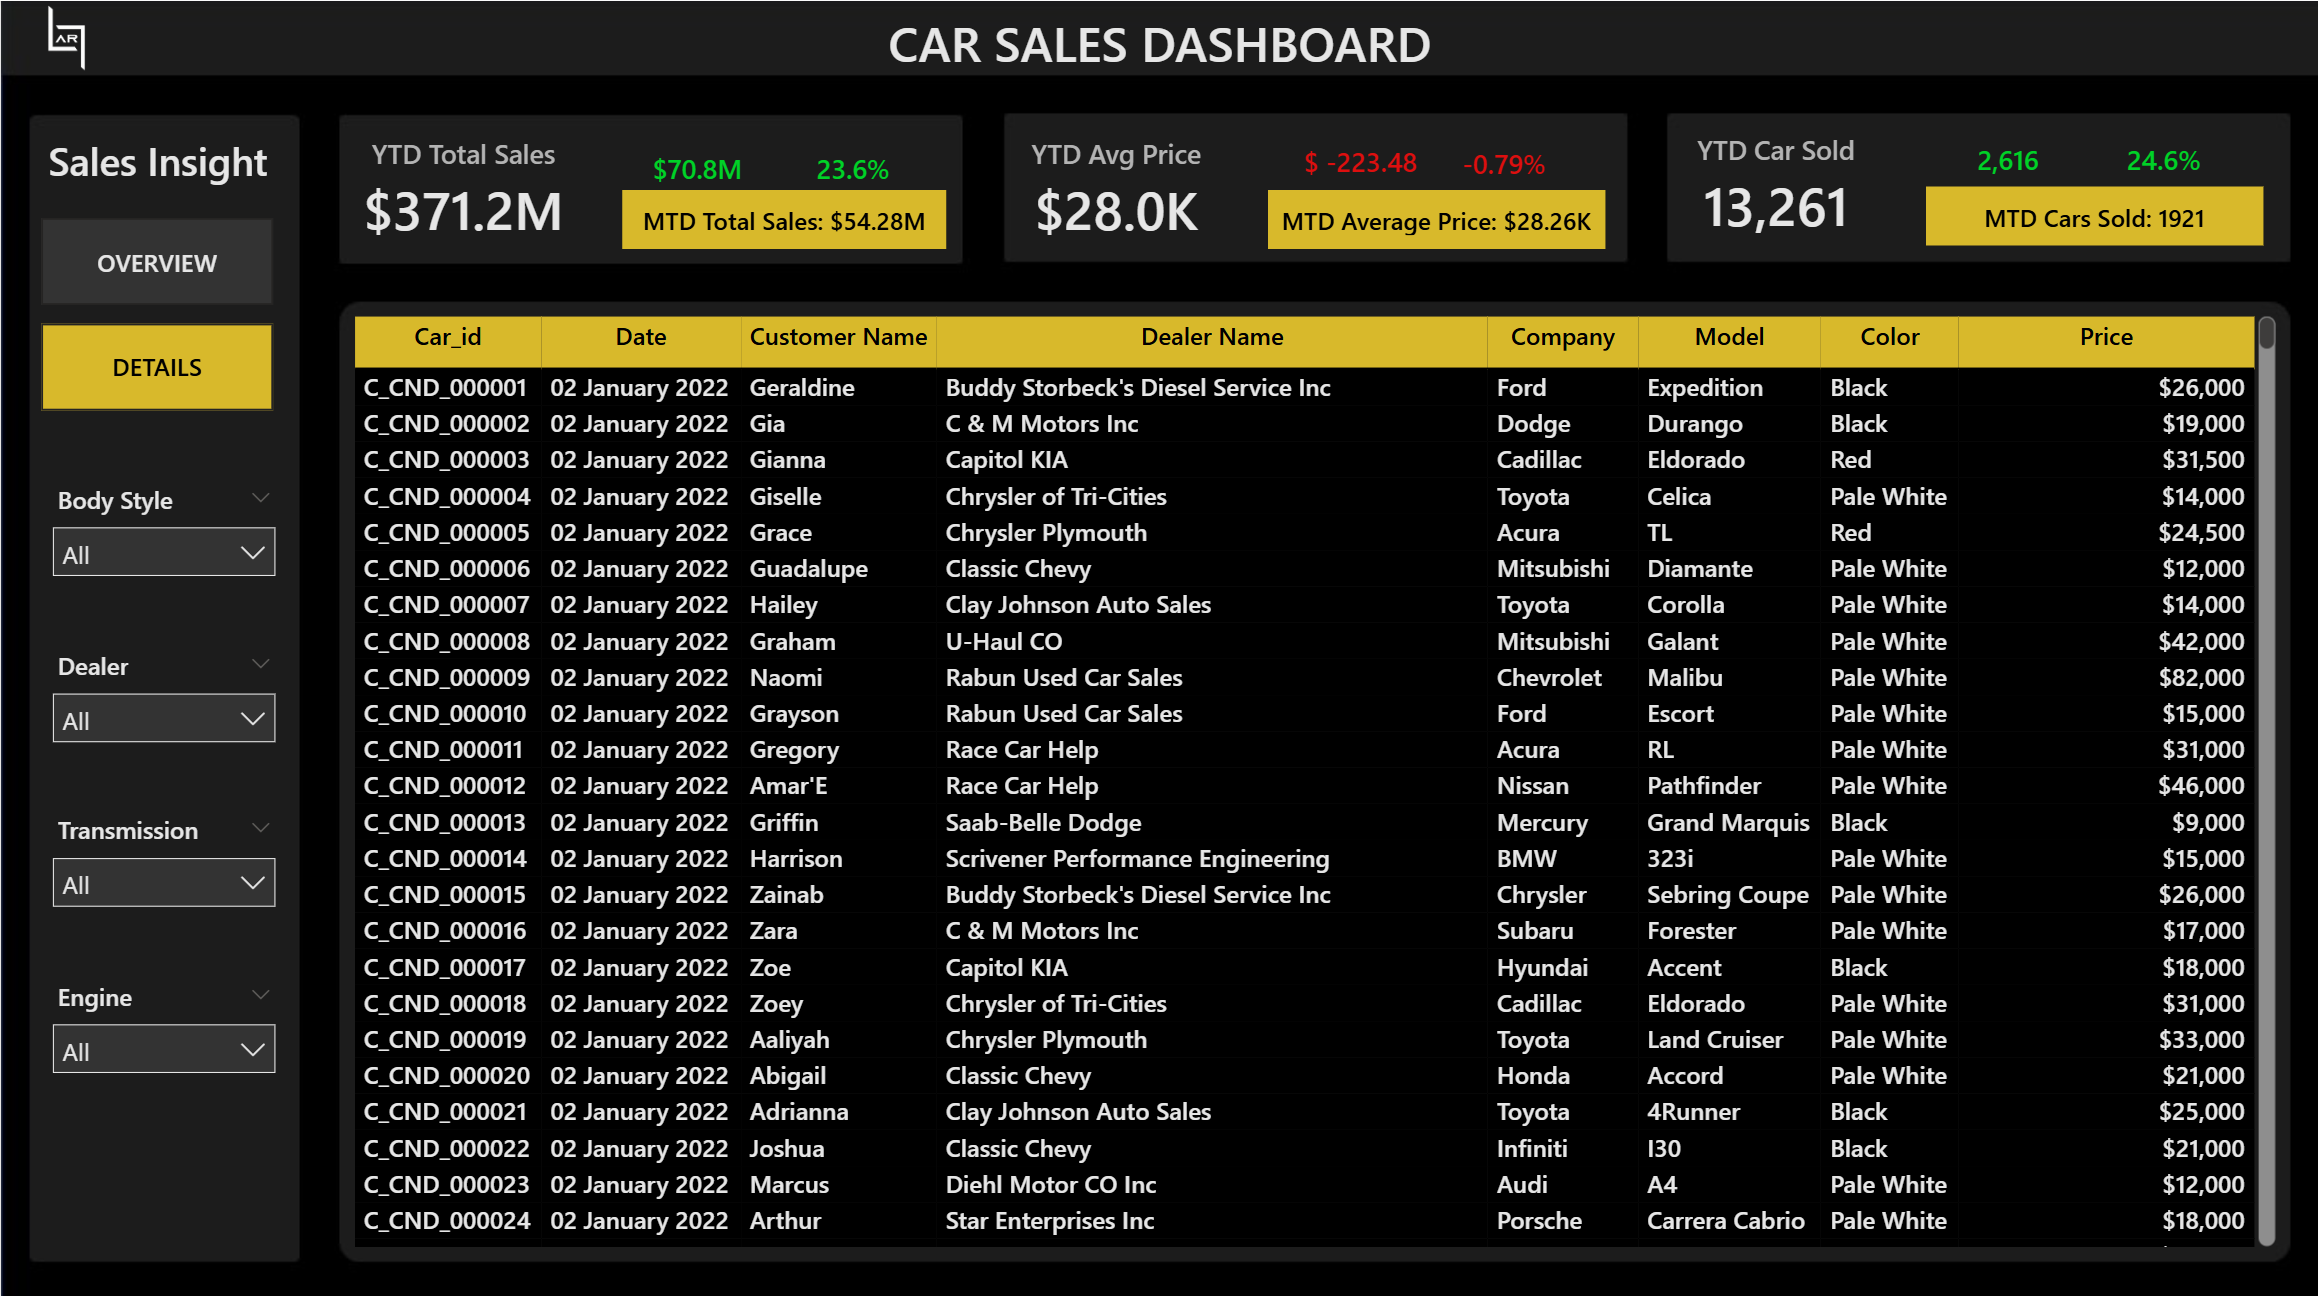

What the dashboard file says about the page in this screenshot:
{"tool":"powerbi","page":{"name":"DETAILS","canvas":[1280,720],"ordinal":1},"visuals":[{"type":"cardVisual","fields":{"Data":["car_data.YTD Total Sales"]},"box":[176.6,62.2,158,84.6],"z":0},{"type":"cardVisual","fields":{"Data":["car_data.Sales Difference"]},"box":[347,72.1,75.9,37],"z":1000},{"type":"cardVisual","fields":{"Data":["car_data.YoY Sales Growth"]},"box":[432.8,72.1,75.9,37],"z":2000},{"type":"cardVisual","fields":{"Data":["car_data.YTD Avg Sales"]},"box":[537.3,62.2,158,84.6],"z":3000},{"type":"cardVisual","fields":{"Data":["car_data.MTD KPI"]},"box":[343.3,104.5,179.1,32.3],"z":4000},{"type":"cardVisual","fields":{"Data":["car_data.Avg Price Diff"]},"box":[696.5,69,108.2,37.6],"z":5000},{"type":"cardVisual","fields":{"Data":["car_data.MTD Avg Price KPI"]},"box":[699,104.5,186.6,32.3],"z":6000},{"type":"cardVisual","fields":{"Data":["car_data.YoY Avg Price Growth"]},"box":[792.3,69.7,75.9,37],"z":7000},{"type":"textbox","box":[411.8,0,456.5,47.3],"z":8000},{"type":"slicer","fields":{"Values":["car_data.Body Style"]},"box":[18.6,261.2,143,77.1],"z":9000},{"type":"slicer","fields":{"Values":["car_data.Dealer_Name"]},"box":[18.6,352.4,143,77.1],"z":10000},{"type":"slicer","fields":{"Values":["car_data.Transmission"]},"box":[18.6,443.6,143,77.1],"z":11000},{"type":"slicer","fields":{"Values":["car_data.Engine"]},"box":[18.6,534.8,143,77.1],"z":12000},{"type":"cardVisual","fields":{"Data":["car_data.YTD Car Sold"]},"box":[901.2,60.1,158,84.6],"z":13000},{"type":"cardVisual","fields":{"Data":["car_data.Car Sold Diff"]},"box":[1070.6,67.3,75.9,37],"z":14000},{"type":"cardVisual","fields":{"Data":["car_data.MTD Cars Sold KPI"]},"box":[1062.9,102.4,186.6,32.3],"z":15000},{"type":"cardVisual","fields":{"Data":["car_data.YoY Cars Sols Growth"]},"box":[1156.2,67.6,75.9,37],"z":16000},{"type":"textbox","box":[11.9,69,150,42.5],"z":17000},{"type":"pivotTable","fields":{"Rows":["car_data.Car_id"],"Values":["Min(car_data.Date)","Min(car_data.Customer Name)","Min(car_data.Dealer_Name)","Min(car_data.Company)","Min(car_data.Model)","Min(car_data.Color)","Sum(car_data.Price ($))"]},"box":[189.8,168.6,1070.1,523],"z":18000},{"type":"pageNavigator","box":[22.4,119.4,128.1,107],"z":19000},{"type":"image","box":[0,0,72.5,40.6],"z":20000}]}

Visuals, with their boxes in screenshot pixels (x1, y1, x2, y2), scaled from the page's 1280x720 canvas onto the 2318x1296 screenshot:
cardVisual - car_data.YTD Total Sales: bbox=[320, 112, 606, 264]
cardVisual - car_data.Sales Difference: bbox=[628, 130, 766, 196]
cardVisual - car_data.YoY Sales Growth: bbox=[784, 130, 921, 196]
cardVisual - car_data.YTD Avg Sales: bbox=[973, 112, 1259, 264]
cardVisual - car_data.MTD KPI: bbox=[622, 188, 946, 246]
cardVisual - car_data.Avg Price Diff: bbox=[1261, 124, 1457, 192]
cardVisual - car_data.MTD Avg Price KPI: bbox=[1266, 188, 1604, 246]
cardVisual - car_data.YoY Avg Price Growth: bbox=[1435, 125, 1572, 192]
textbox: bbox=[746, 0, 1572, 85]
slicer - car_data.Body Style: bbox=[34, 470, 293, 609]
slicer - car_data.Dealer_Name: bbox=[34, 634, 293, 773]
slicer - car_data.Transmission: bbox=[34, 798, 293, 937]
slicer - car_data.Engine: bbox=[34, 963, 293, 1101]
cardVisual - car_data.YTD Car Sold: bbox=[1632, 108, 1918, 260]
cardVisual - car_data.Car Sold Diff: bbox=[1939, 121, 2076, 188]
cardVisual - car_data.MTD Cars Sold KPI: bbox=[1925, 184, 2263, 242]
cardVisual - car_data.YoY Cars Sols Growth: bbox=[2094, 122, 2231, 188]
textbox: bbox=[22, 124, 293, 201]
pivotTable - car_data.Car_id x Min(car_data.Date): bbox=[344, 303, 2282, 1245]
pageNavigator: bbox=[41, 215, 273, 408]
image: bbox=[0, 0, 131, 73]
